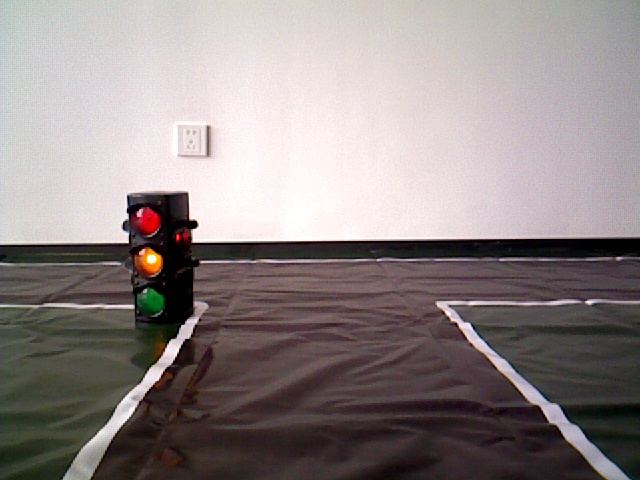yellow: (126, 190, 201, 318)
